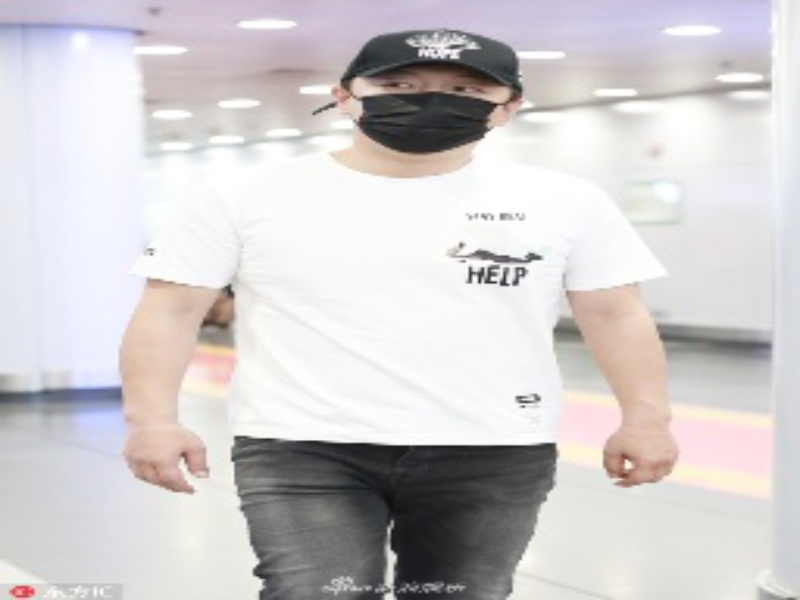ManaoArotava: (315, 19, 539, 185)
